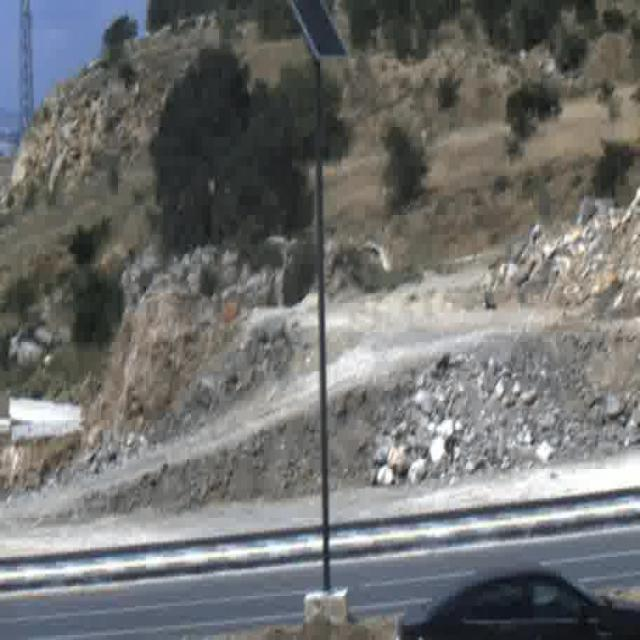Car: (396, 565, 640, 640)
